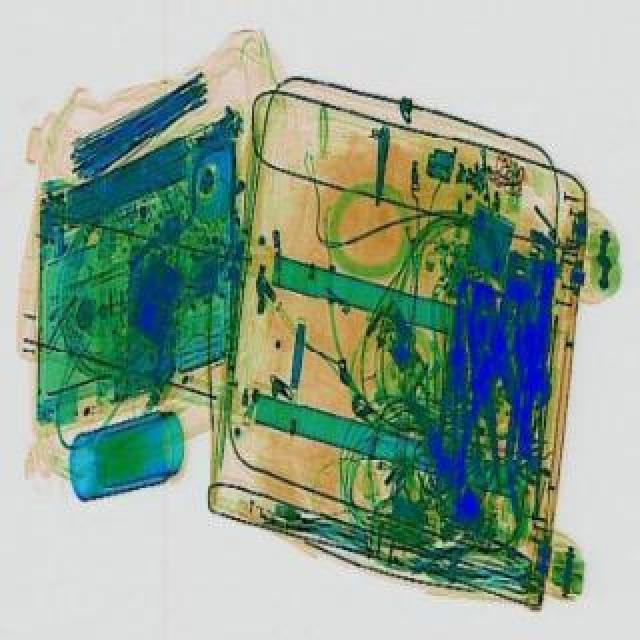wrench: (454, 280, 538, 486)
